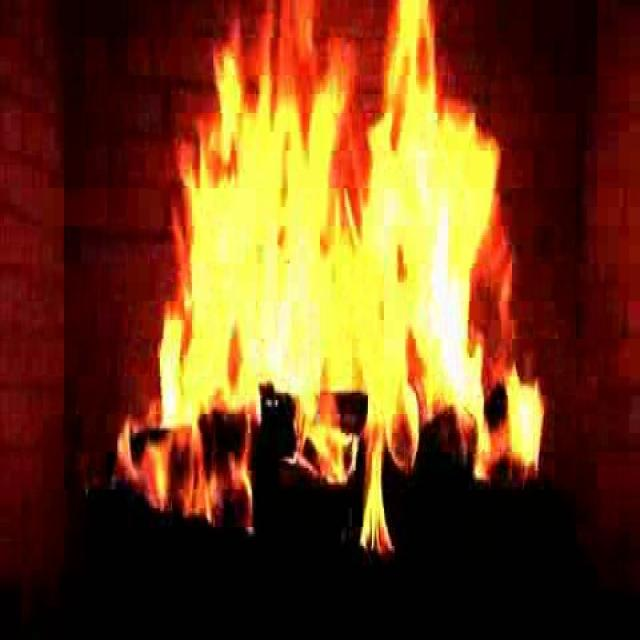Fire: (101, 2, 596, 562)
